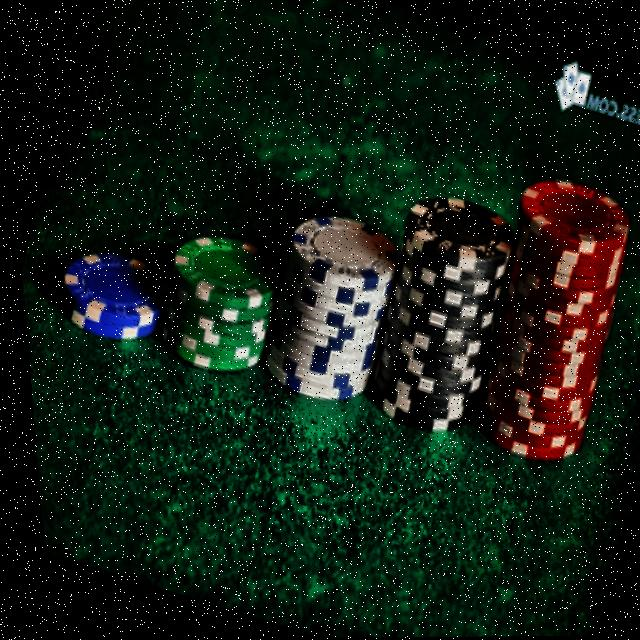Chip: (433, 164, 640, 491), (335, 175, 537, 450), (233, 193, 419, 413), (132, 212, 305, 390), (26, 220, 191, 359)
